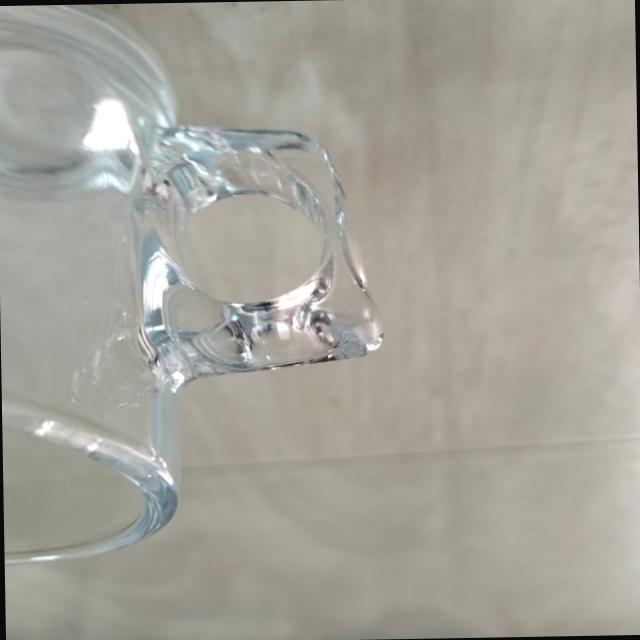glass-VX4N: (0, 0, 387, 562)
